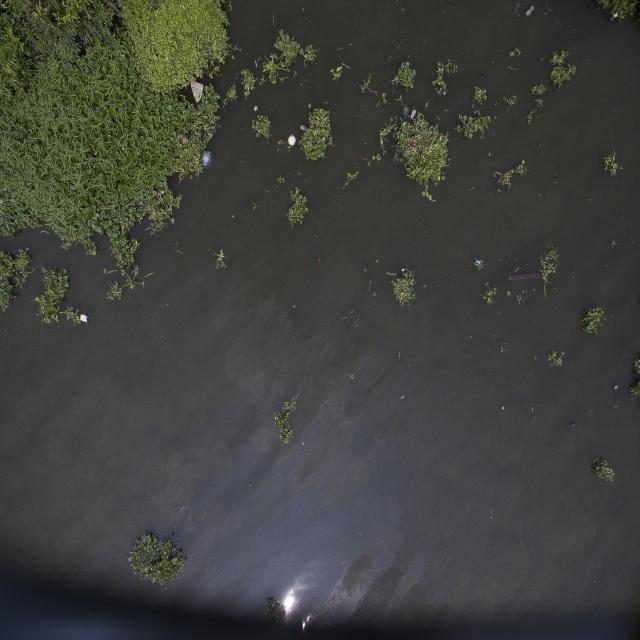plastic: (188, 69, 208, 109), (198, 148, 217, 176), (472, 250, 486, 275), (78, 308, 91, 331), (287, 130, 300, 153)
